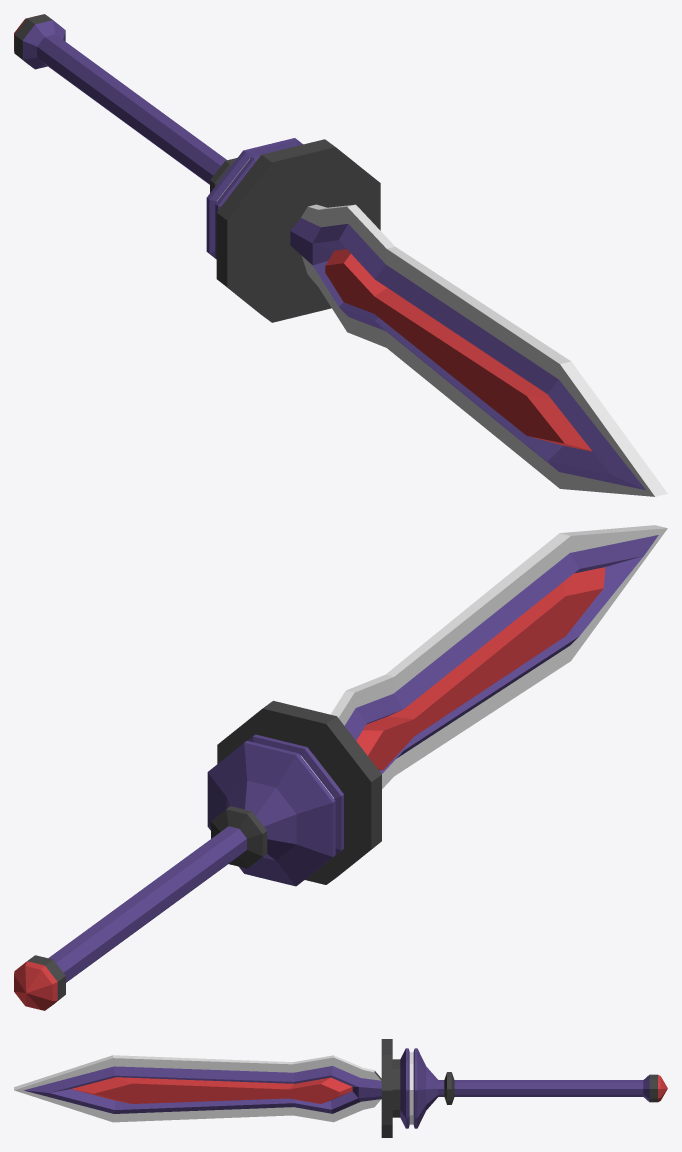
File: sword.fbx
3 renders of one model, top to bottom at view 1: azimuth 30°, elevation 25°; view 2: azimuth 150°, elevation 25°; view 3: azimuth 270°, elevation 25°, orthographic. The views are drawn at different scales.
Parts seen in each view (by area): view 1: sword; view 2: sword; view 3: sword.
Boxes of the visible parts, <box> form: sword: <box>14,14,667,496</box>; sword: <box>14,525,667,1010</box>; sword: <box>14,1039,667,1137</box>.
Bounding box in the file's own units: 211 × 211 × 1515.
